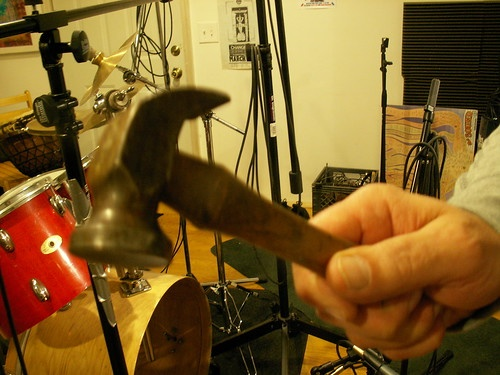hammer: (67, 83, 302, 270)
